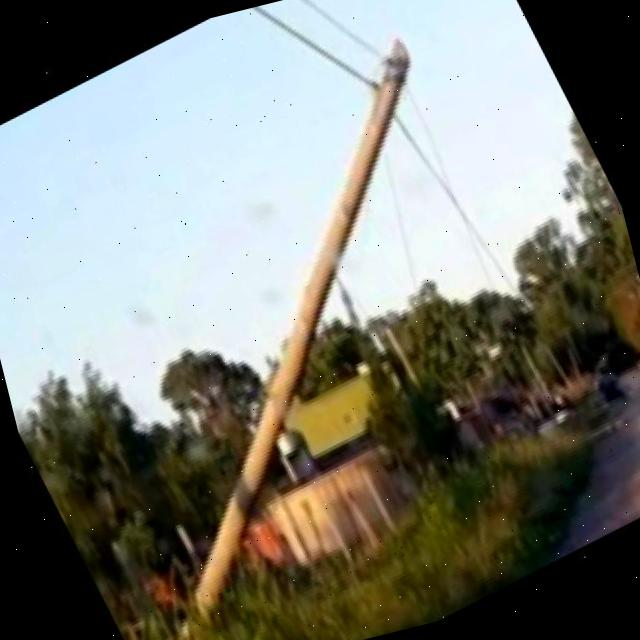Broken Pole: (176, 33, 412, 640)
